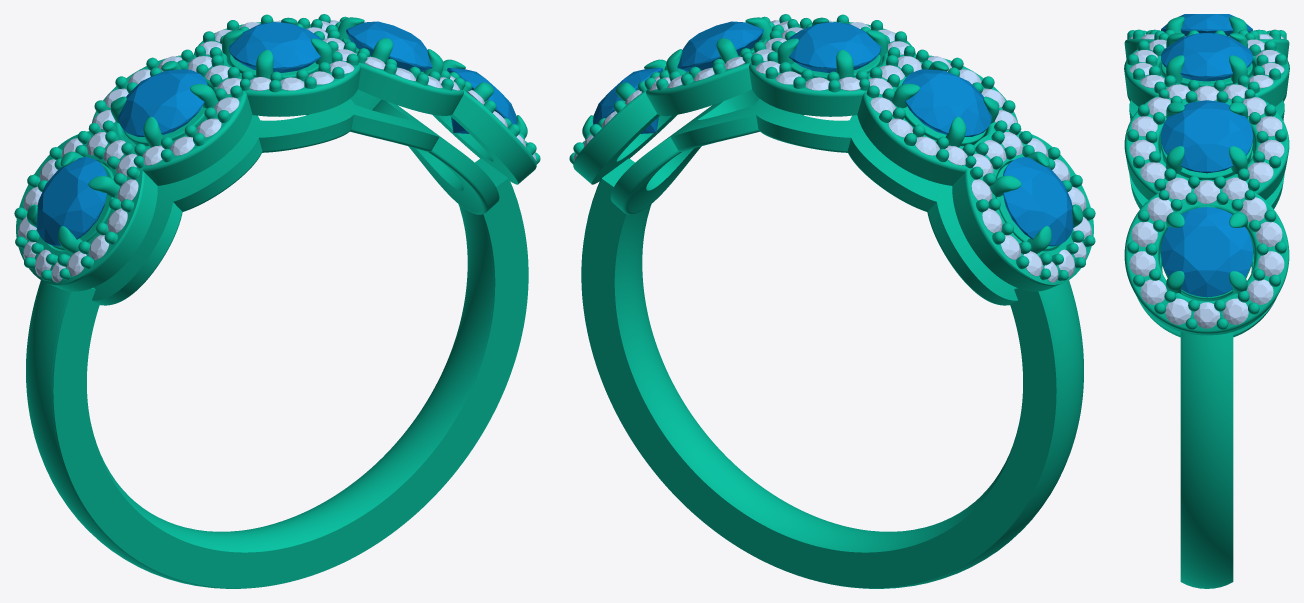
The picture shows the model from 3 angles, left to right: view 1: azimuth 30°, elevation 25°; view 2: azimuth 150°, elevation 25°; view 3: azimuth 270°, elevation 25°; orthographic projection. The views are drawn at different scales.
Visible parts, largest first — view 1: Emerald engagement ring(RENDER).3dm, Diamond_Round (×5); view 2: Emerald engagement ring(RENDER).3dm, Diamond_Round (×5); view 3: Emerald engagement ring(RENDER).3dm, Diamond_Round (×29), Bezel (×3).
Part boxes in pixels (x1=…): Emerald engagement ring(RENDER).3dm: x1=16, y1=17, x2=536, y2=588; Diamond_Round (×5): x1=36, y1=21, x2=516, y2=246; Emerald engagement ring(RENDER).3dm: x1=573, y1=17, x2=1093, y2=588; Diamond_Round (×5): x1=593, y1=21, x2=1073, y2=246; Emerald engagement ring(RENDER).3dm: x1=1124, y1=16, x2=1289, y2=588; Diamond_Round (×29): x1=1129, y1=14, x2=1284, y2=328; Bezel (×3): x1=1161, y1=63, x2=1252, y2=301.
Size of the model in its own units: 2.67 by 2.86 by 0.8242.
